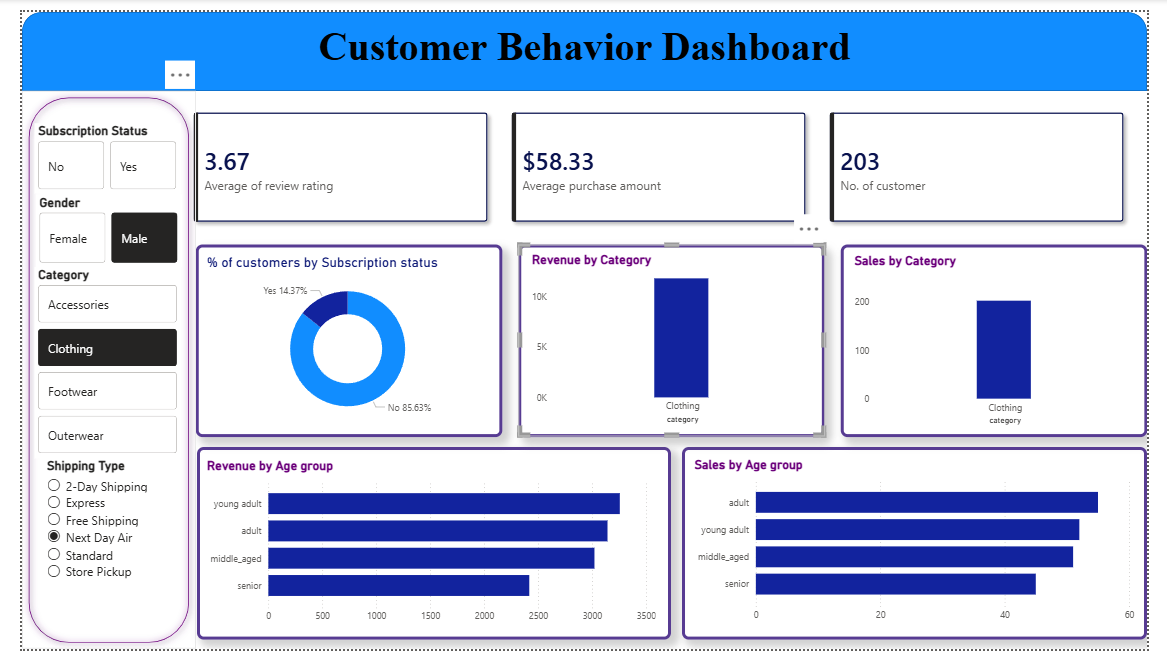

Layout of this report page (visuals, bound fields, positions):
{"tool":"powerbi","page":{"name":"Page 1","canvas":[1500,850],"ordinal":0},"visuals":[{"type":"cardVisual","fields":{"Data":["public customer.Average of review rating","public customer.Average purchase amount","public customer.No. of customer"]},"box":[199.2,105.4,1300.7,205],"z":0},{"type":"shape","box":[0,0,1499.9,105.4],"z":1000},{"type":"textbox","box":[0,11.5,1499.9,75.1],"z":2000},{"type":"shape","box":[231,310.4,408.5,257],"z":3000},{"type":"donutChart","title":"% of customers by Subscription status","fields":{"Category":["public customer.subscription_status"],"Y":["Sum(public customer.customer_id)"]},"box":[241.1,323.4,385.4,231],"z":4000},{"type":"shape","box":[1091.4,310.4,408.5,257],"z":5000},{"type":"shape","box":[661.2,310.4,408.5,257],"z":6000},{"type":"clusteredColumnChart","title":"Revenue by Category","fields":{"Y":["Sum(public customer.purchase_amount)"],"Category":["public customer.category"]},"box":[674.2,320.5,382.6,233.9],"z":7000},{"type":"clusteredColumnChart","title":"Sales by Category","fields":{"Category":["public customer.category"],"Y":["CountNonNull(public customer.customer_id)"]},"box":[1104.4,321.9,382.6,233.9],"z":8000},{"type":"shape","box":[0,105,231.7,745],"z":9000},{"type":"advancedSlicerVisual","title":"Subscription Status","fields":{"Values":["public customer.subscription_status"]},"box":[17.3,148.7,194.9,93.8],"z":10000},{"type":"advancedSlicerVisual","title":"Gender","fields":{"Values":["public customer.gender"]},"box":[18.8,242.5,194.9,96.7],"z":11000},{"type":"advancedSlicerVisual","title":"Category","fields":{"Values":["public customer.category"]},"box":[16.7,340,195,255],"z":12000},{"type":"listSlicer","title":"Shipping Type","fields":{"Values":["public customer.shipping_type"]},"box":[28.3,595,171.7,213.3],"z":13000},{"type":"clusteredBarChart","title":"Revenue by Age group","fields":{"Y":["Sum(public customer.purchase_amount)"],"Category":["public customer.age_group"]},"box":[241.4,594.3,608.6,228.6],"z":14000},{"type":"shape","box":[233.3,580,631.7,256.7],"z":14001},{"type":"shape","box":[880,580,620,257.1],"z":14002},{"type":"clusteredBarChart","title":"Sales by Age group","fields":{"Category":["public customer.age_group"],"Y":["CountNonNull(public customer.customer_id)"]},"box":[891.7,593.3,596.7,228.3],"z":14003}]}

Visuals, with their boxes in screenshot pixels (x1, y1, x2, y2), scaled from the page's 1500x850 canvas onto the 1167x665 screenshot:
cardVisual - public customer.Average of review rating x public customer.Average purchase amount: box=[155, 82, 1166, 243]
shape: box=[0, 0, 1166, 82]
textbox: box=[0, 9, 1166, 68]
shape: box=[180, 243, 498, 444]
"% of customers by Subscription status" donutChart: box=[188, 253, 487, 434]
shape: box=[849, 243, 1166, 444]
shape: box=[514, 243, 832, 444]
"Revenue by Category" clusteredColumnChart: box=[525, 251, 822, 434]
"Sales by Category" clusteredColumnChart: box=[859, 252, 1157, 435]
shape: box=[0, 82, 180, 664]
"Subscription Status" advancedSlicerVisual: box=[13, 116, 165, 190]
"Gender" advancedSlicerVisual: box=[15, 190, 166, 265]
"Category" advancedSlicerVisual: box=[13, 266, 165, 466]
"Shipping Type" listSlicer: box=[22, 466, 156, 632]
"Revenue by Age group" clusteredBarChart: box=[188, 465, 661, 644]
shape: box=[182, 454, 673, 655]
shape: box=[685, 454, 1166, 655]
"Sales by Age group" clusteredBarChart: box=[694, 464, 1158, 643]
